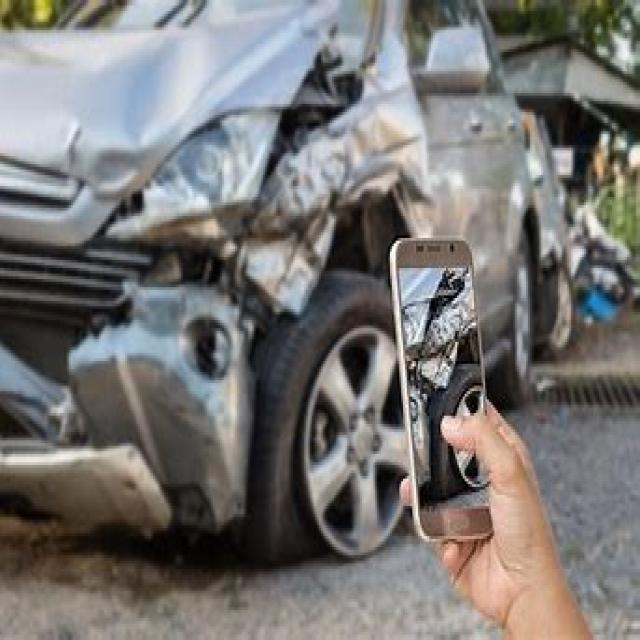Accident: (62, 15, 498, 532)
